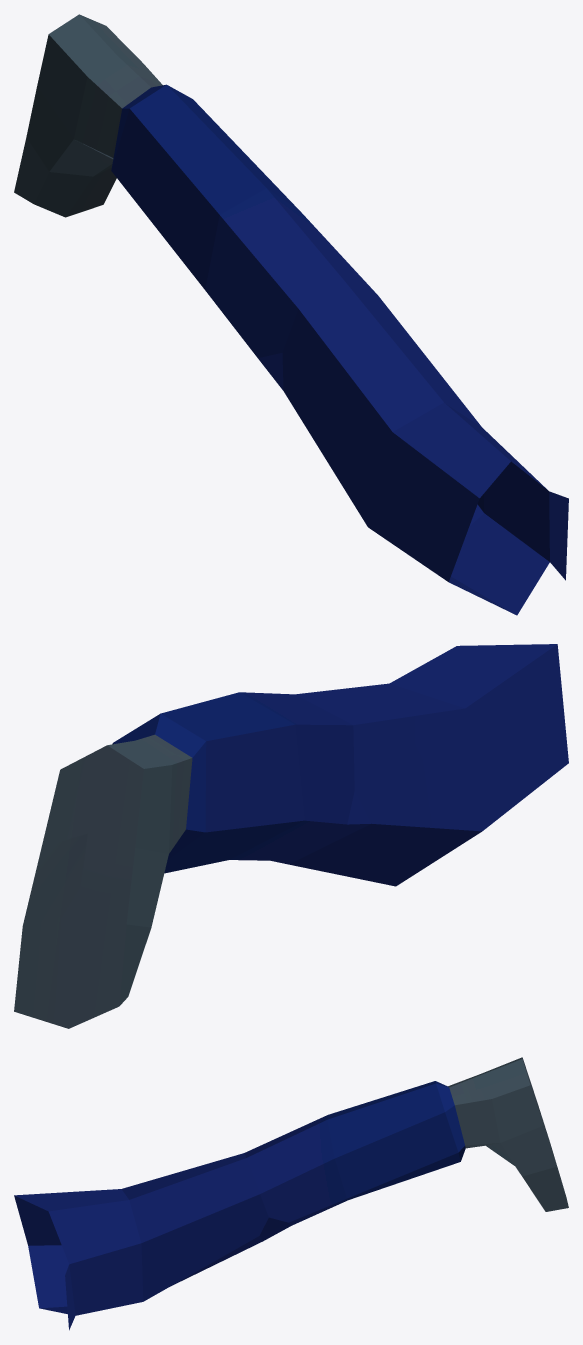
The model's file is 192_enemy_cop_002.gltf.
The picture shows the model from 3 angles, top to bottom: view 1: azimuth 30°, elevation 25°; view 2: azimuth 150°, elevation 25°; view 3: azimuth 270°, elevation 25°; orthographic projection. The views are drawn at different scales.
Parts seen in each view (by area): view 1: enemy_cop_002; view 2: enemy_cop_002; view 3: enemy_cop_002.
Part boxes in pixels (x1=…): enemy_cop_002: x1=14, y1=14, x2=568, y2=615; enemy_cop_002: x1=14, y1=644, x2=568, y2=1028; enemy_cop_002: x1=14, y1=1057, x2=568, y2=1330.
Bounding box in the file's own units: 0.4544 × 0.8483 × 1.87.
1 material, 1 textured.
